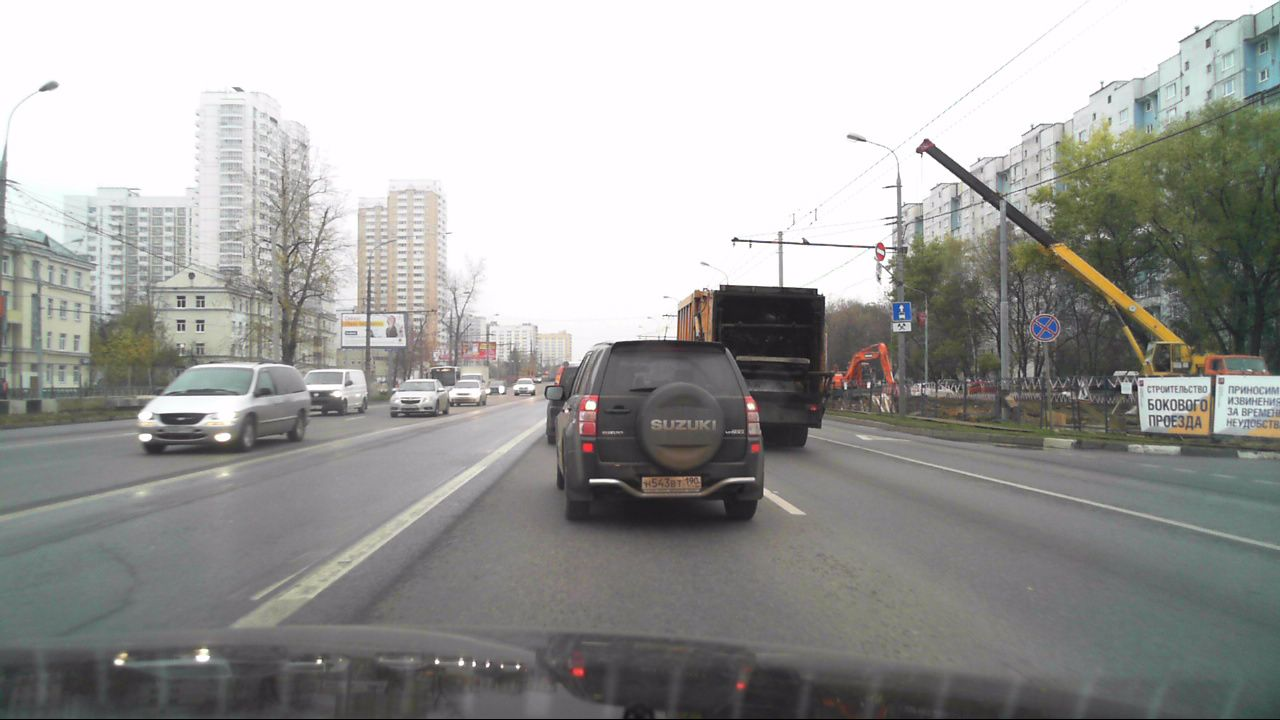No Parking: (1029, 313, 1061, 344)
